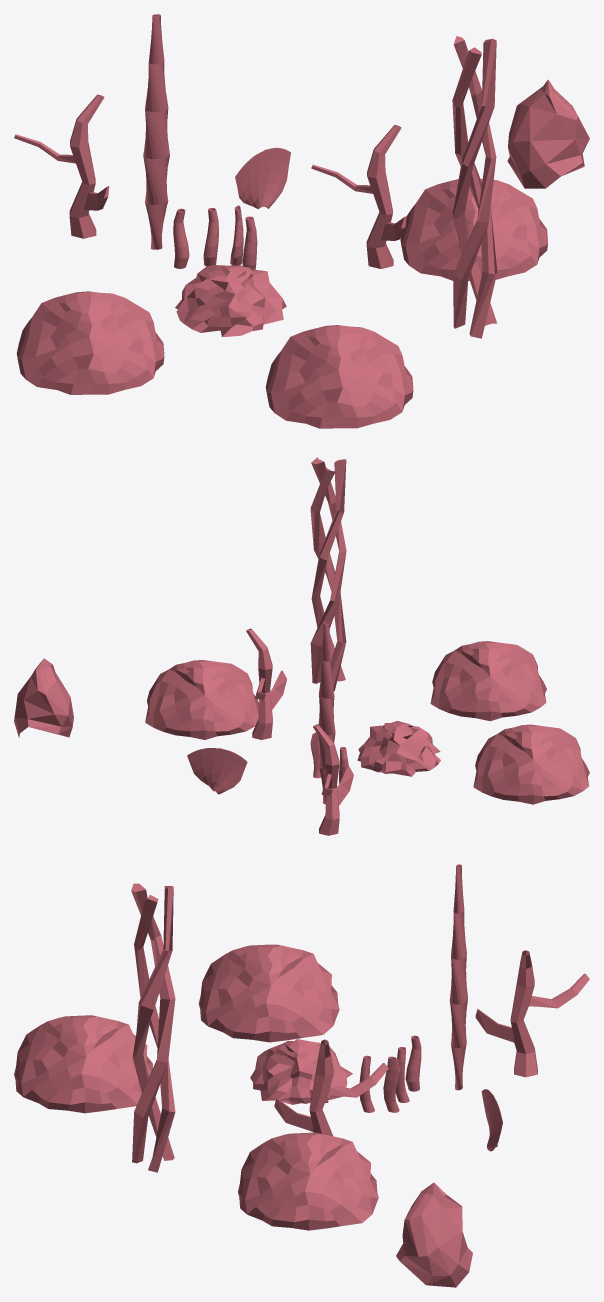
File: Coral1.fbx
3 renders of one model, top to bottom at view 1: azimuth 30°, elevation 25°; view 2: azimuth 150°, elevation 25°; view 3: azimuth 270°, elevation 25°, orthographic. The views are drawn at different scales.
Parts seen in each view (by area): view 1: Rock_with_Coral_2, Rock_with_Coral_3, Tall_Twiste_Coral, Rock_with_Coral_1, Shell, Rock, Tall_Coral, Coral_tree_2, Coral_Tree_1, Fan_Coral, Tube_Coral_1, Tube_Coral_2 (+2 smaller); view 2: Rock_with_Coral_2, Rock_with_Coral_3, Rock_with_Coral_1, Tall_Twiste_Coral, Rock, Shell, Fan_Coral, Coral_Tree_1, Coral_tree_2, Tall_Coral; view 3: Rock_with_Coral_1, Rock_with_Coral_3, Rock_with_Coral_2, Tall_Twiste_Coral, Shell, Rock, Coral_tree_2, Tall_Coral, Coral_Tree_1, Fan_Coral, Tube_Coral_3, Tube_Coral_1.
Part boxes in pixels (x1,y1,x2,y2): Rock_with_Coral_2: (265, 325, 413, 428); Rock_with_Coral_3: (16, 291, 164, 394); Tall_Twiste_Coral: (452, 36, 497, 338); Rock_with_Coral_1: (400, 178, 547, 280); Shell: (507, 79, 589, 188); Rock: (175, 265, 286, 337); Tall_Coral: (143, 14, 169, 249); Coral_tree_2: (14, 94, 109, 238); Coral_Tree_1: (311, 125, 406, 268); Fan_Coral: (235, 147, 290, 209); Tube_Coral_1: (173, 208, 189, 268); Tube_Coral_2: (203, 208, 218, 266); Rock_with_Coral_2: (430, 641, 546, 721); Rock_with_Coral_3: (473, 724, 589, 804); Rock_with_Coral_1: (145, 660, 259, 739); Tall_Twiste_Coral: (310, 457, 346, 691); Rock: (357, 721, 440, 776); Shell: (14, 658, 73, 737); Fan_Coral: (187, 748, 247, 794); Coral_Tree_1: (246, 628, 286, 739); Coral_tree_2: (313, 724, 353, 835); Tall_Coral: (318, 622, 335, 804); Rock_with_Coral_1: (238, 1132, 378, 1230); Rock_with_Coral_3: (198, 944, 339, 1042); Rock_with_Coral_2: (14, 1015, 152, 1113); Tall_Twiste_Coral: (131, 883, 175, 1172); Shell: (396, 1182, 472, 1287); Rock: (250, 1039, 352, 1104); Coral_tree_2: (475, 950, 589, 1077); Tall_Coral: (449, 864, 467, 1090); Coral_Tree_1: (274, 1039, 388, 1136); Fan_Coral: (481, 1089, 502, 1151); Tube_Coral_3: (383, 1056, 399, 1112); Tube_Coral_1: (405, 1035, 421, 1091).
Bounding box in the file's own units: 483 × 214 × 391.
